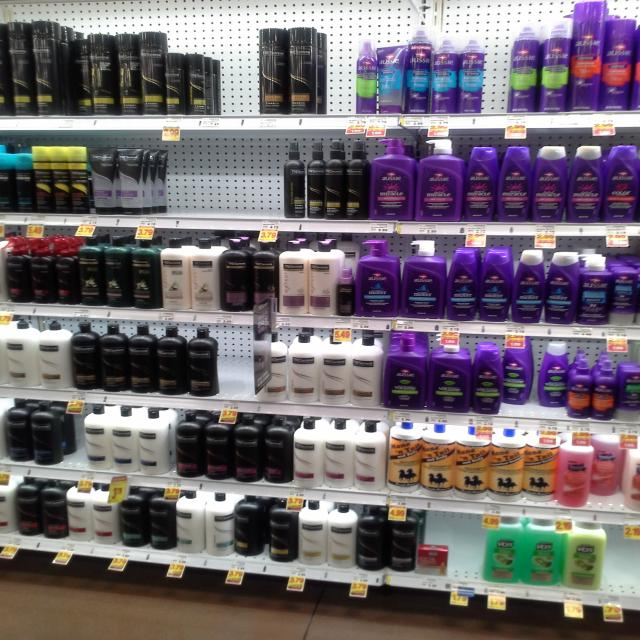empty: (144, 145, 286, 215), (207, 27, 263, 123), (213, 325, 262, 395), (323, 25, 357, 121), (477, 21, 508, 114), (598, 527, 640, 595), (446, 510, 486, 580), (65, 403, 86, 469)
